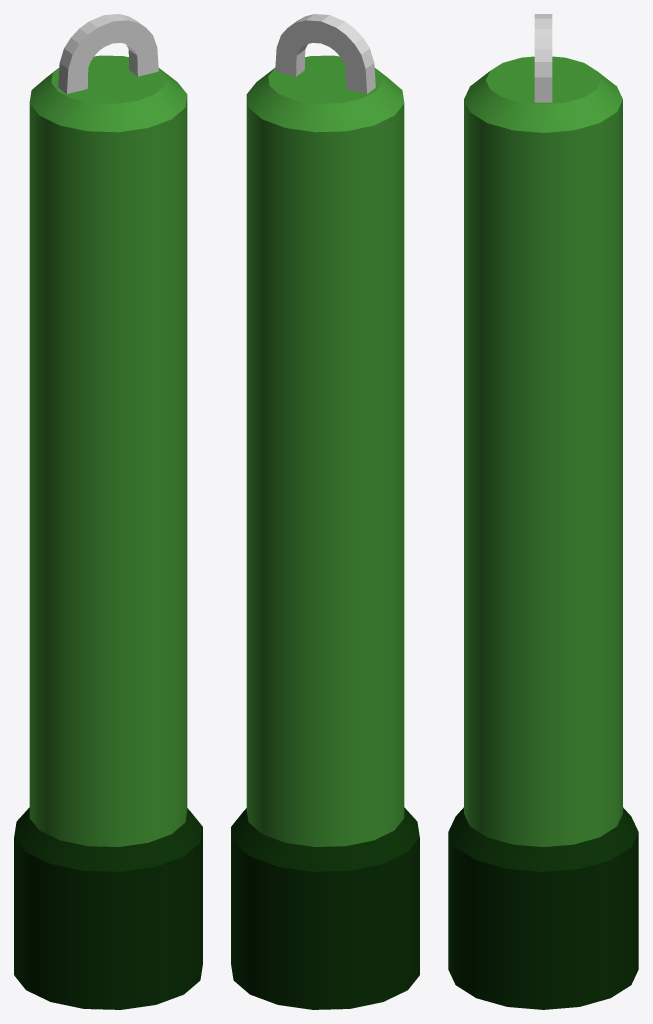
The model's file is SM_Glow_Stick.fbx.
The picture shows the model from 3 angles, left to right: view 1: azimuth 30°, elevation 25°; view 2: azimuth 150°, elevation 25°; view 3: azimuth 270°, elevation 25°; orthographic projection.
Visible parts, largest first — view 1: Glow_Stick_Body, Glow_Stick_Hook; view 2: Glow_Stick_Body, Glow_Stick_Hook; view 3: Glow_Stick_Body, Glow_Stick_Hook.
Boxes of the visible parts, bbox=[...] form: Glow_Stick_Body: bbox=[14, 55, 202, 1009]; Glow_Stick_Hook: bbox=[58, 14, 158, 93]; Glow_Stick_Body: bbox=[231, 55, 419, 1009]; Glow_Stick_Hook: bbox=[275, 14, 375, 93]; Glow_Stick_Body: bbox=[448, 56, 638, 1009]; Glow_Stick_Hook: bbox=[534, 14, 552, 102].
Bounding box in the file's own units: 0.485 × 2.68 × 0.485.
